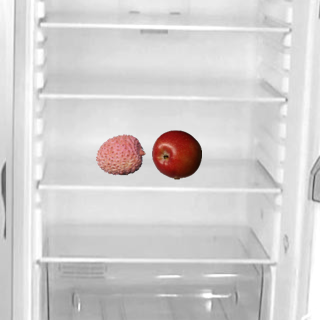Apple Braeburn: (151, 129, 201, 179)
Lychee: (95, 129, 145, 179)
